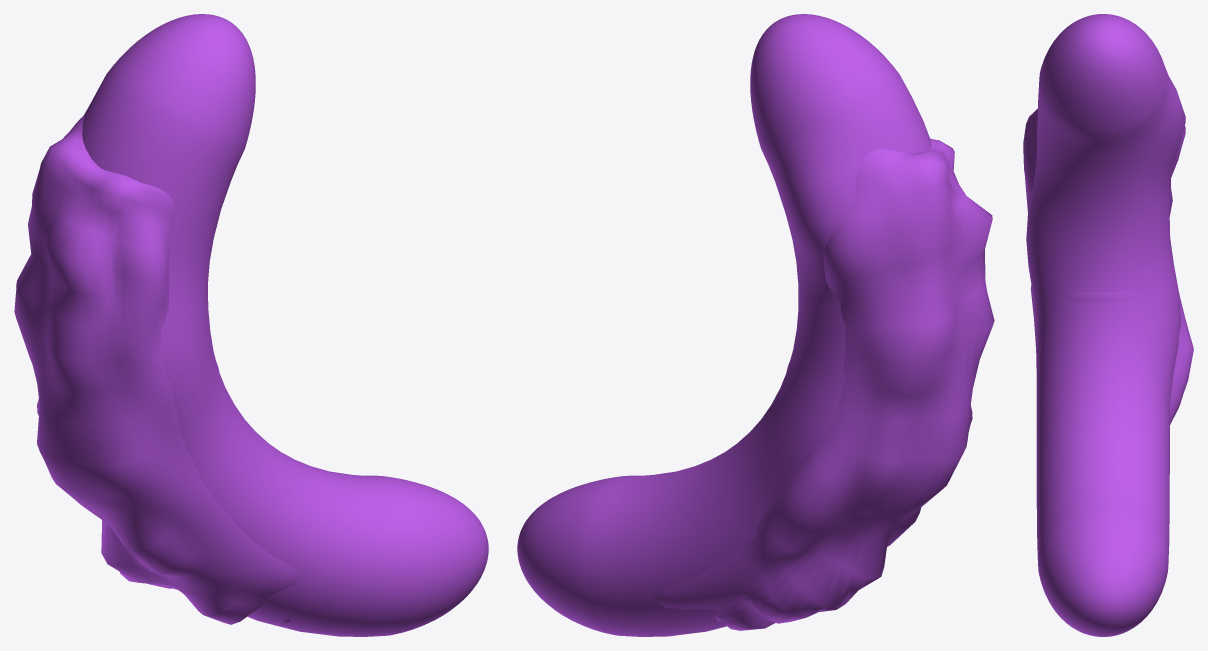
Rendered from Ring Test 8_3parts.fbx.
3 renders of one model, left to right at view 1: azimuth 30°, elevation 25°; view 2: azimuth 150°, elevation 25°; view 3: azimuth 270°, elevation 25°, orthographic. The views are drawn at different scales.
Parts seen in each view (by area): view 1: 1 Ring, 1 Ring midstep; view 2: 1 Ring, 1 Ring midstep; view 3: 1 Ring, 1 Ring midstep, 1 Sphere.
Part boxes in pixels (bbox=[...]): 1 Ring: bbox=[82, 14, 488, 636]; 1 Ring midstep: bbox=[14, 115, 302, 625]; 1 Ring: bbox=[517, 14, 931, 636]; 1 Ring midstep: bbox=[654, 138, 994, 630]; 1 Ring: bbox=[1026, 14, 1185, 636]; 1 Ring midstep: bbox=[1023, 108, 1193, 424]; 1 Sphere: bbox=[1064, 291, 1139, 302].
Size of the model in its own units: 630 by 878 by 256.
